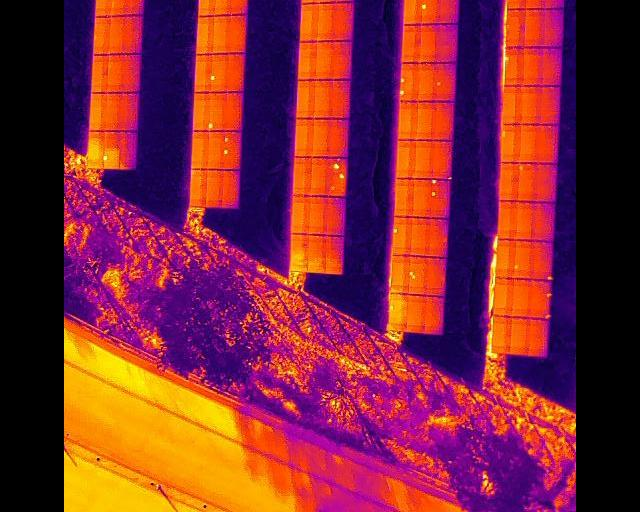Cell: (531, 240, 552, 279), (435, 62, 456, 100), (501, 124, 521, 162), (506, 46, 525, 85), (514, 240, 533, 277), (518, 162, 535, 200), (394, 216, 411, 253), (391, 293, 408, 329), (210, 53, 226, 91), (104, 130, 120, 167), (209, 92, 224, 130), (422, 0, 439, 23), (94, 0, 112, 15)
Cell-Multi: (328, 156, 348, 196), (531, 280, 551, 319), (430, 179, 450, 217), (223, 131, 242, 169), (400, 63, 419, 100), (409, 256, 427, 293)
No-Anomaly: (539, 86, 561, 124), (436, 24, 458, 62), (537, 124, 559, 162), (535, 163, 557, 201), (523, 46, 544, 85), (534, 202, 555, 240), (525, 8, 546, 46), (334, 1, 354, 40), (426, 257, 447, 294), (333, 41, 353, 79), (120, 92, 139, 132), (542, 47, 562, 85), (396, 140, 416, 178), (398, 101, 418, 139), (434, 101, 454, 139), (432, 140, 452, 178), (327, 196, 346, 235), (293, 156, 312, 195), (428, 219, 448, 256), (395, 178, 414, 216), (295, 118, 314, 156), (223, 92, 242, 130), (292, 195, 311, 233), (300, 2, 319, 40), (545, 8, 564, 46), (416, 101, 435, 139), (425, 295, 444, 333), (522, 86, 541, 124), (402, 25, 421, 62), (411, 217, 430, 254), (513, 278, 532, 315), (507, 9, 526, 46), (325, 235, 343, 274), (415, 139, 433, 178), (511, 318, 531, 353), (221, 169, 239, 207), (192, 130, 210, 168), (331, 118, 349, 156), (226, 53, 244, 91), (229, 14, 247, 52), (296, 79, 314, 117), (309, 196, 327, 234), (298, 41, 316, 79), (308, 235, 326, 273), (314, 79, 332, 117), (313, 118, 331, 156), (123, 53, 141, 91), (407, 295, 426, 331), (420, 24, 438, 62), (413, 178, 431, 216), (499, 202, 518, 238), (500, 162, 518, 200), (504, 85, 522, 123), (520, 124, 538, 162), (291, 233, 309, 270), (332, 80, 350, 117), (118, 131, 136, 168), (213, 14, 230, 53), (196, 15, 213, 54), (496, 277, 514, 313), (530, 319, 548, 355), (318, 2, 335, 40), (311, 157, 328, 195), (316, 41, 333, 79), (125, 14, 142, 52), (104, 91, 120, 131), (392, 255, 409, 292), (194, 54, 211, 91), (109, 16, 126, 53), (418, 63, 435, 100), (516, 201, 533, 238), (494, 315, 511, 351), (193, 92, 209, 130), (89, 92, 105, 130), (91, 55, 107, 93), (88, 130, 104, 167), (498, 239, 514, 276), (207, 169, 222, 207), (208, 130, 223, 168), (107, 54, 122, 92), (191, 169, 206, 206), (96, 16, 110, 53), (438, 0, 459, 23), (404, 0, 422, 23), (125, 0, 144, 14), (199, 0, 216, 15), (214, 0, 232, 14), (110, 0, 125, 15), (231, 0, 248, 13), (546, 0, 565, 8), (509, 0, 527, 8)
